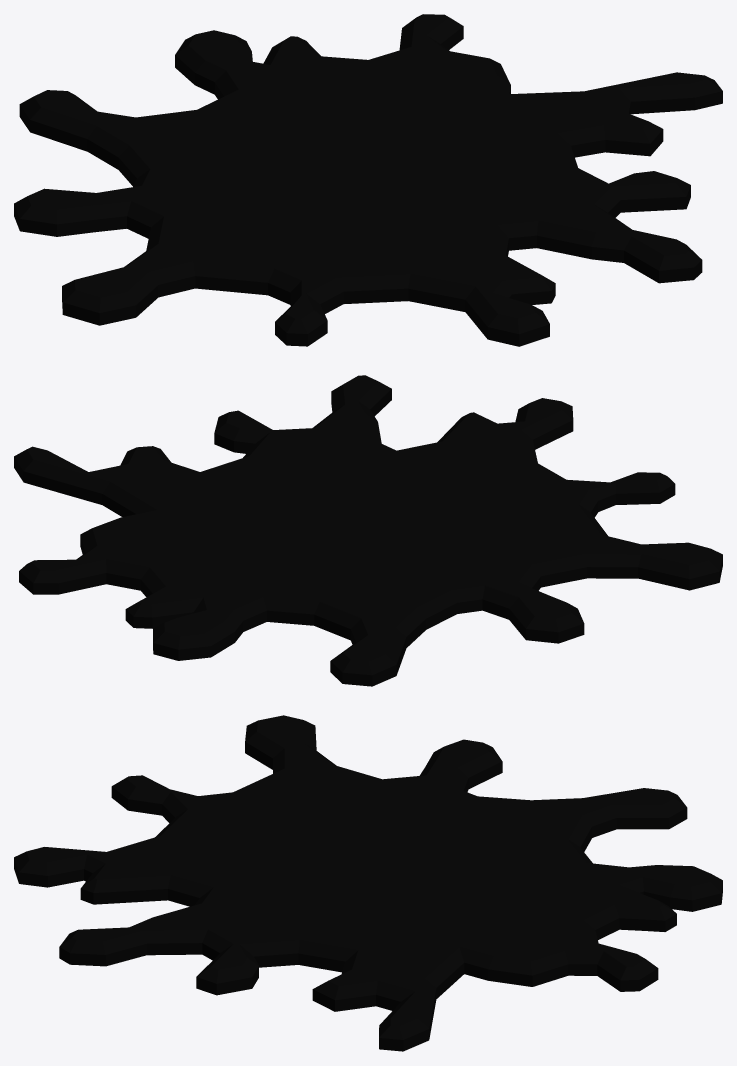
Rendered from Me_Oil_Stain.fbx.
3 renders of one model, top to bottom at view 1: azimuth 30°, elevation 25°; view 2: azimuth 150°, elevation 25°; view 3: azimuth 270°, elevation 25°, orthographic. The views are drawn at different scales.
Parts seen in each view (by area): view 1: Me_Oil_Stain; view 2: Me_Oil_Stain; view 3: Me_Oil_Stain.
Part boxes in pixels (bbox=[...]): Me_Oil_Stain: bbox=[14, 14, 722, 346]; Me_Oil_Stain: bbox=[14, 375, 722, 686]; Me_Oil_Stain: bbox=[14, 715, 722, 1051].
Bounding box in the file's own units: 552 × 514 × 15.99.
